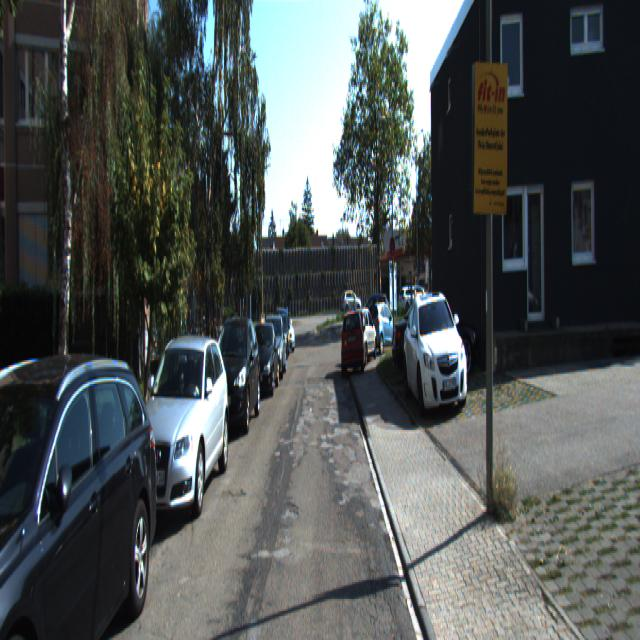Car: (0, 332, 162, 639), (124, 336, 230, 538), (402, 288, 469, 417), (392, 280, 478, 374), (206, 316, 261, 440), (247, 318, 280, 402), (340, 306, 366, 380), (347, 308, 378, 370), (259, 315, 287, 383), (365, 297, 397, 355), (341, 290, 361, 312)
